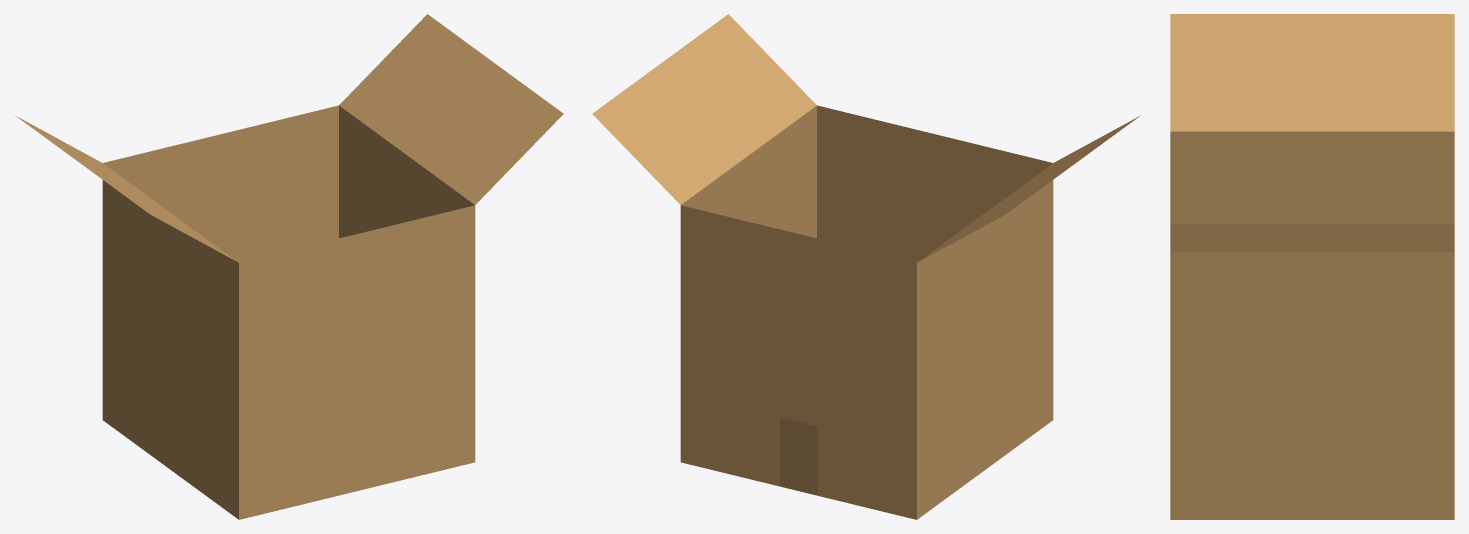
Rendered from cardboardBoxOpen.glb.
3 renders of one model, left to right at view 1: azimuth 30°, elevation 25°; view 2: azimuth 150°, elevation 25°; view 3: azimuth 270°, elevation 25°, orthographic. The views are drawn at different scales.
Bounding box in the file's own units: 3.72 × 2.81 × 2.13.
